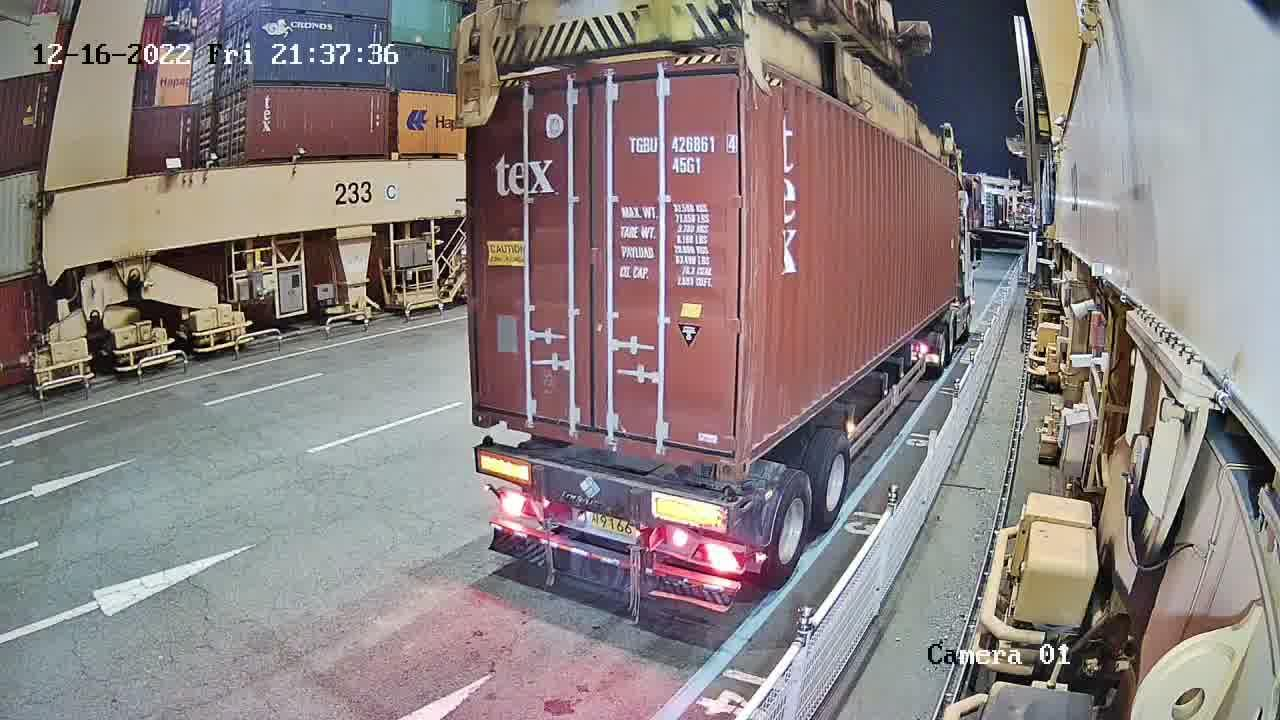Chassis: (474, 448, 740, 537)
Cone: (721, 488, 747, 532), (475, 435, 493, 477)
Hole_L: (470, 377, 519, 432), (741, 402, 775, 479)
Hole_R: (682, 420, 739, 480)
Tire: (769, 474, 814, 584), (817, 436, 851, 525)
